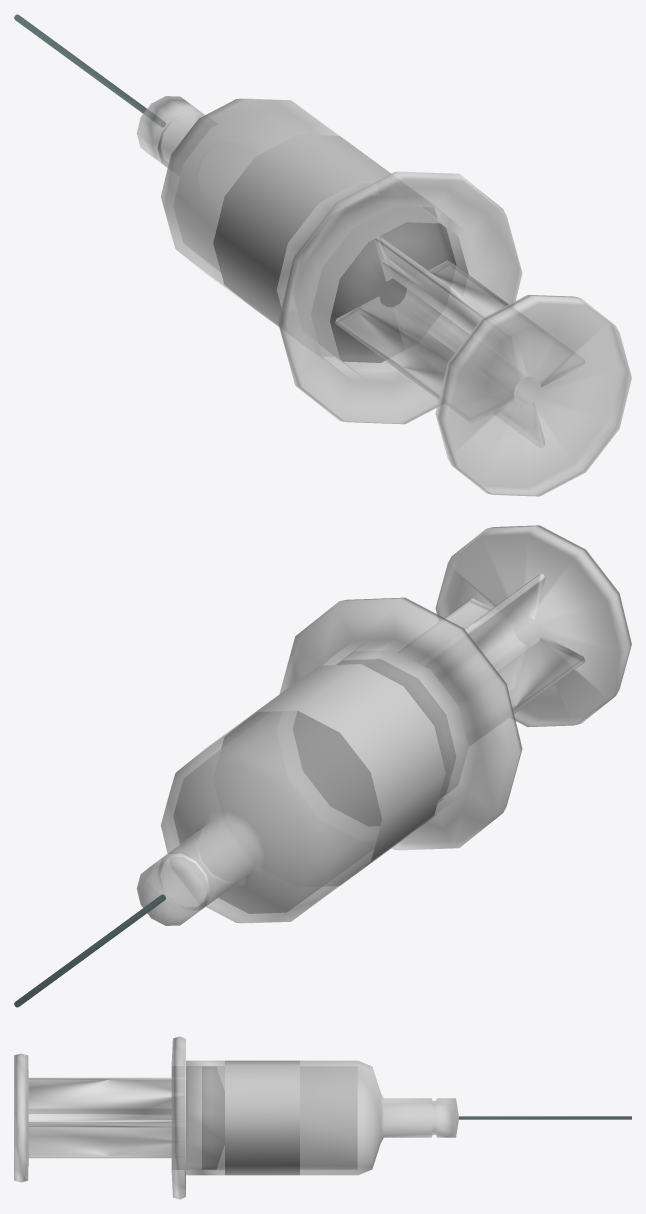
The model's file is injector.obj.
3 views of the same model, one above another, from view 1: azimuth 30°, elevation 25°; view 2: azimuth 150°, elevation 25°; view 3: azimuth 270°, elevation 25° (orthographic). The views are drawn at different scales.
Visible parts, largest first — view 1: (null); view 2: (null); view 3: (null).
Part boxes in pixels (x1,y1,x2,y2): (null): (14,14,631,496); (null): (14,525,631,1007); (null): (14,1036,631,1199).
Bounding box in the file's own units: 28.42 × 28.42 × 107.
